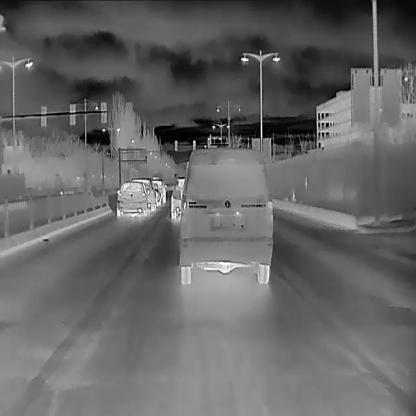car: (170, 146, 274, 285), (115, 180, 150, 218), (129, 176, 157, 212), (169, 175, 187, 219), (151, 177, 167, 203), (151, 181, 162, 206)
